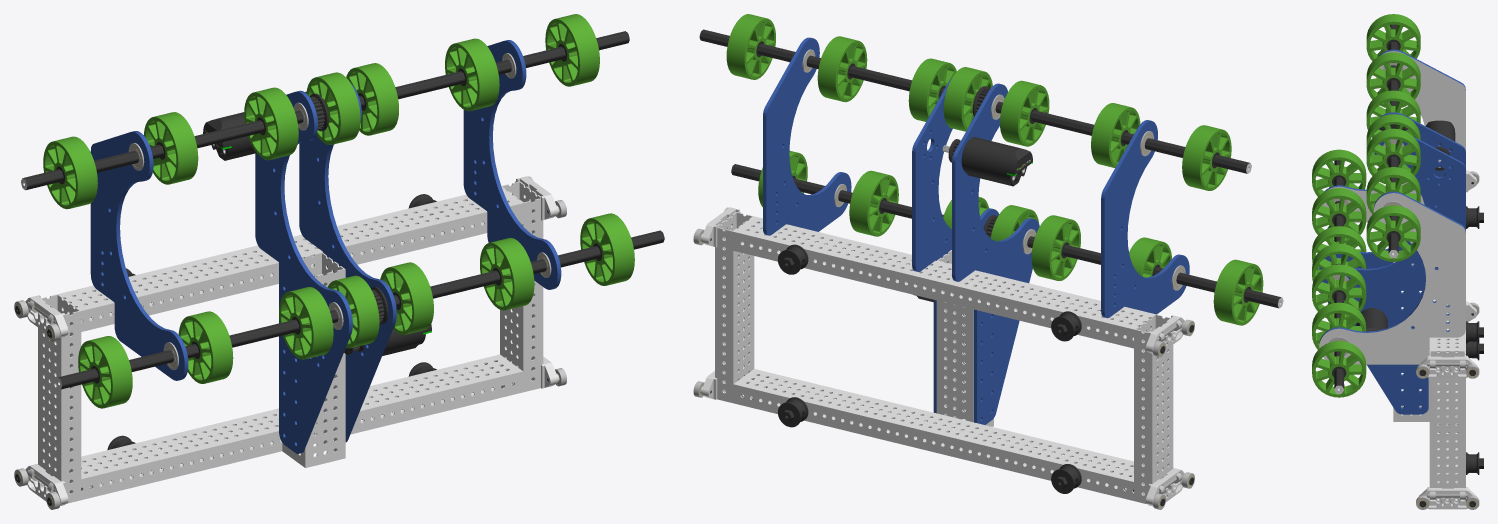
The picture shows the model from 3 angles, left to right: view 1: azimuth 30°, elevation 25°; view 2: azimuth 150°, elevation 25°; view 3: azimuth 270°, elevation 25°; orthographic projection. The views are drawn at different scales.
Parts seen in each view (by area): view 1: 3" Compliant Wheel (35A, 1" Wide, 1/2" Hex Bore) (×14), 2" x 1" x 0.0625" Aluminum Box Tube (22" L, Full Pattern, 0. (×2), Part 3 (×2), Part 4 (×2), 2" x 1" x 0.0625" Aluminum Box Tube (9" L, Full Pattern, 0.5 (×2), 1/2" Rounded Hex (30" L, 13.75mm OD) (×2), 2" x 2" x 0.0625" Aluminum Box Tube (9" L, Full Pattern, 0.5, Kraken X44 Brushless Motor (×2), WCP-0897-001 Rev1 (×2); view 2: 2" x 1" x 0.0625" Aluminum Box Tube (22" L, Full Pattern, 0. (×2), 3" Compliant Wheel (35A, 1" Wide, 1/2" Hex Bore) (×12), Part 3 (×2), Part 4 (×2), 2" x 1" x 0.0625" Aluminum Box Tube (9" L, Full Pattern, 0.5 (×2), 1/2" Rounded Hex (30" L, 13.75mm OD) (×2), 2" x 2" x 0.0625" Aluminum Box Tube (9" L, Full Pattern, 0.5, Dyneema Tensioning Cam (×4), Kraken X44 Brushless Motor, WCP-0897-001 Rev1 (×2); view 3: 3" Compliant Wheel (35A, 1" Wide, 1/2" Hex Bore) (×14), Part 4 (×2), Part 3 (×2), 2" x 1" x 0.0625" Aluminum Box Tube (9" L, Full Pattern, 0.5, WCP-0897-001 Rev1 (×2), 1/2" Rounded Hex (30" L, 13.75mm OD) (×2), Dyneema Tensioning Cam (×4), Kraken X44 Brushless Motor (×2), 2" x 1" x 0.0625" Aluminum Box Tube (22" L, Full Pattern, 0. (×2), 2" x 2" x 0.0625" Aluminum Box Tube (9" L, Full Pattern, 0.5.
Boxes of the visible parts, x1,y1,x2,y2 form: 3" Compliant Wheel (35A, 1" Wide, 1/2" Hex Bore) (×14): [43, 14, 634, 408]; 2" x 1" x 0.0625" Aluminum Box Tube (22" L, Full Pattern, 0. (×2): [58, 188, 523, 499]; Part 3 (×2): [255, 83, 396, 453]; Part 4 (×2): [90, 40, 561, 380]; 2" x 1" x 0.0625" Aluminum Box Tube (9" L, Full Pattern, 0.5 (×2): [38, 181, 543, 503]; 1/2" Rounded Hex (30" L, 13.75mm OD) (×2): [21, 31, 664, 389]; 2" x 2" x 0.0625" Aluminum Box Tube (9" L, Full Pattern, 0.5: [282, 252, 345, 467]; Kraken X44 Brushless Motor (×2): [203, 112, 431, 355]; WCP-0897-001 Rev1 (×2): [25, 295, 68, 505]; 2" x 1" x 0.0625" Aluminum Box Tube (22" L, Full Pattern, 0. (×2): [733, 216, 1154, 500]; 3" Compliant Wheel (35A, 1" Wide, 1/2" Hex Bore) (×12): [726, 14, 1263, 325]; Part 3 (×2): [912, 77, 1039, 424]; Part 4 (×2): [763, 37, 1189, 322]; 2" x 1" x 0.0625" Aluminum Box Tube (9" L, Full Pattern, 0.5 (×2): [715, 212, 1173, 503]; 1/2" Rounded Hex (30" L, 13.75mm OD) (×2): [699, 29, 1283, 308]; 2" x 2" x 0.0625" Aluminum Box Tube (9" L, Full Pattern, 0.5: [936, 250, 993, 434]; Dyneema Tensioning Cam (×4): [777, 244, 1081, 493]; Kraken X44 Brushless Motor: [942, 137, 1032, 186]; WCP-0897-001 Rev1 (×2): [1145, 315, 1184, 506]; 3" Compliant Wheel (35A, 1" Wide, 1/2" Hex Bore) (×14): [1312, 14, 1420, 397]; Part 4 (×2): [1319, 49, 1465, 364]; Part 3 (×2): [1319, 112, 1465, 414]; 2" x 1" x 0.0625" Aluminum Box Tube (9" L, Full Pattern, 0.5: [1429, 351, 1465, 500]; WCP-0897-001 Rev1 (×2): [1418, 355, 1476, 509]; 1/2" Rounded Hex (30" L, 13.75mm OD) (×2): [1334, 24, 1398, 393]; Dyneema Tensioning Cam (×4): [1466, 206, 1483, 474]; Kraken X44 Brushless Motor (×2): [1356, 120, 1455, 331]; 2" x 1" x 0.0625" Aluminum Box Tube (22" L, Full Pattern, 0. (×2): [1429, 299, 1465, 482]; 2" x 2" x 0.0625" Aluminum Box Tube (9" L, Full Pattern, 0.5: [1393, 261, 1429, 421].
Size of the model in its own units: 0.762 by 0.4673 by 0.2413.
